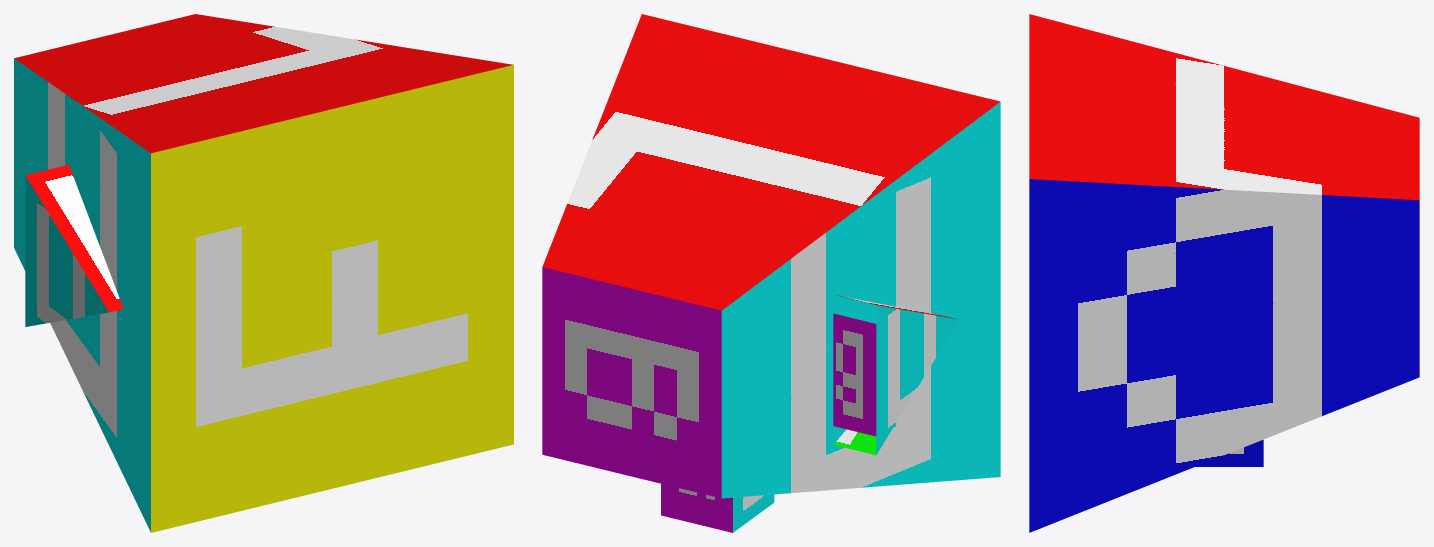
Rendered from thing+z-x.obj.
The picture shows the model from 3 angles, left to right: view 1: azimuth 30°, elevation 25°; view 2: azimuth 150°, elevation 25°; view 3: azimuth 270°, elevation 25°; orthographic projection. The views are drawn at different scales.
Visible parts, largest first — view 1: Cube; view 2: Cube; view 3: Cube.
Boxes of the visible parts, x1=… form: Cube: x1=14, y1=14, x2=513, y2=532; Cube: x1=542, y1=14, x2=1000, y2=532; Cube: x1=1029, y1=14, x2=1419, y2=532.
Bounding box in the file's own units: 1 × 1 × 1.
